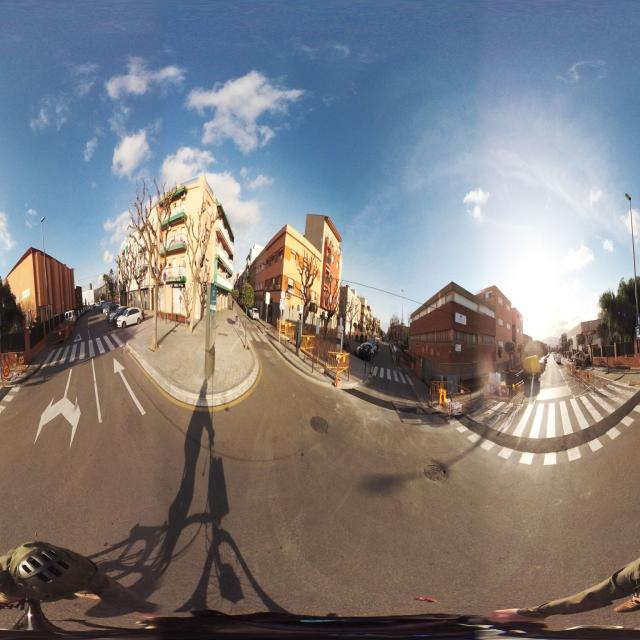forb_stopping: (163, 272, 167, 282)
